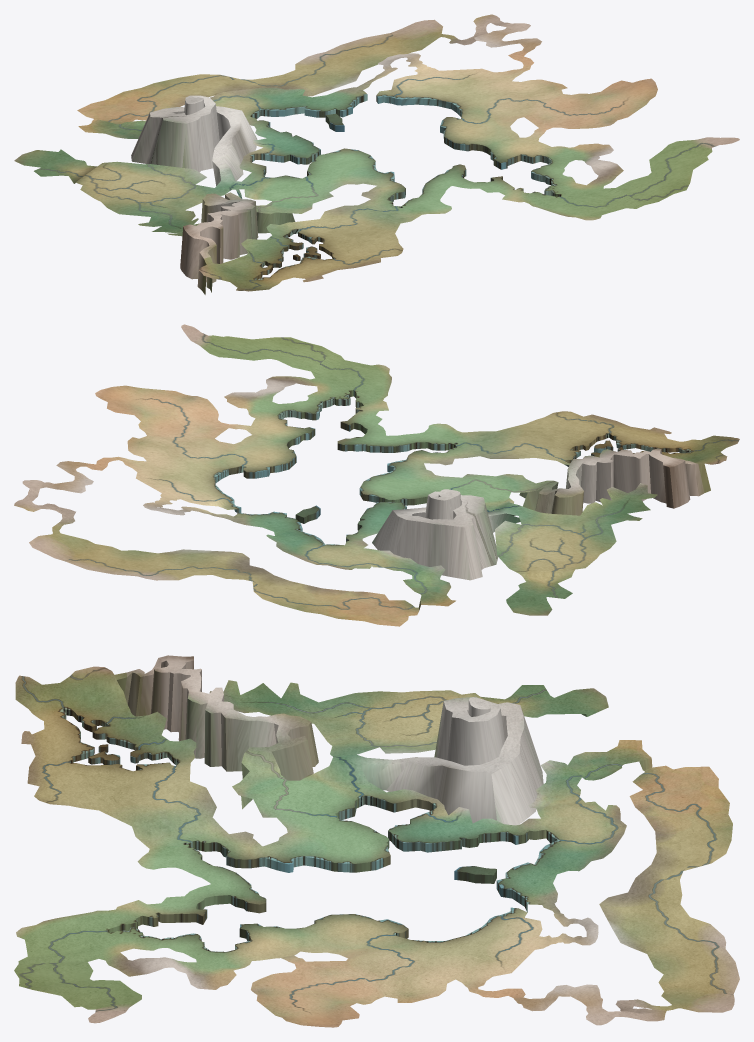
The model's file is RPG Map Whitebox.fbx.
3 views of the same model, one above another, from view 1: azimuth 30°, elevation 25°; view 2: azimuth 150°, elevation 25°; view 3: azimuth 270°, elevation 25° (orthographic). The views are drawn at different scales.
Parts seen in each view (by area): view 1: OVERWORLD WHITEBOX; view 2: OVERWORLD WHITEBOX; view 3: OVERWORLD WHITEBOX.
Part boxes in pixels (x1,y1,x2,y2): OVERWORLD WHITEBOX: (14,14,739,294); OVERWORLD WHITEBOX: (14,324,739,626); OVERWORLD WHITEBOX: (14,655,739,1027).
Size of the model in its own units: 9799 by 1471 by 11685.
